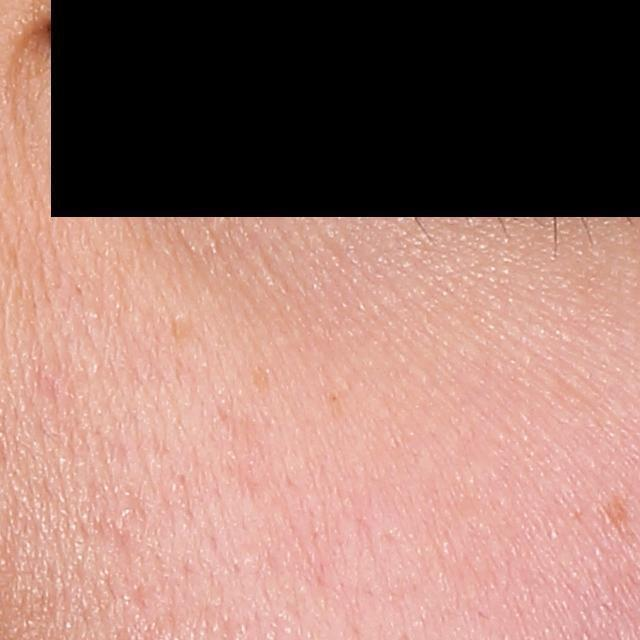melasma: (164, 315, 200, 355), (246, 367, 271, 395)
